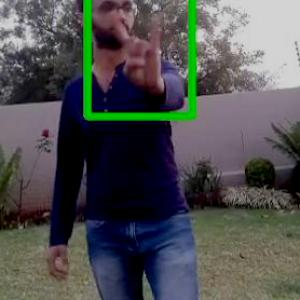takeoff-hand: (107, 7, 167, 98)
